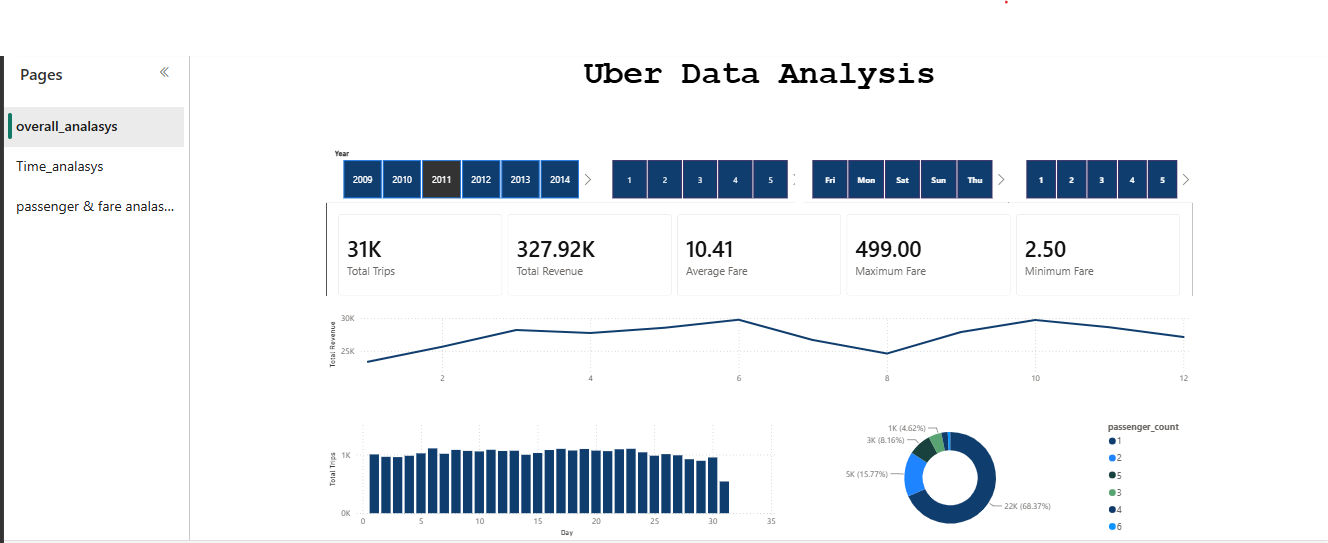

This screenshot's page, from the dashboard's own definition file:
{"tool":"powerbi","page":{"name":"overall_analasys","canvas":[1280,720],"ordinal":0},"visuals":[{"type":"cardVisual","fields":{"Data":["uber.Total Trips","uber.Total Revenue","uber.Average Fare","uber.Maximum Fare","uber.Minimum Fare"]},"box":[0,221.8,1280.2,157],"z":0},{"type":"slicer","fields":{"Values":["uber.Year"]},"box":[0,138.2,397.4,83.5],"z":1000},{"type":"slicer","fields":{"Values":["uber.Month"]},"box":[397.4,138.2,308.2,83.5],"z":2000},{"type":"slicer","fields":{"Values":["uber.Weekday"]},"box":[692.6,138.2,315.4,83.5],"z":3000},{"type":"slicer","fields":{"Values":["uber.passenger_count"]},"box":[1008,138.2,272.2,83.5],"z":4000},{"type":"lineChart","title":"Revenue by Month","fields":{"Category":["uber.Month"],"Y":["uber.Total Revenue"]},"box":[0,360,1280.2,139.7],"z":5000},{"type":"clusteredColumnChart","fields":{"Category":["uber.Day"],"Y":["uber.Total Trips"]},"box":[0,518.4,669.6,201.6],"z":6000},{"type":"donutChart","fields":{"Category":["uber.passenger_count"],"Y":["uber.Total Trips"]},"box":[682.6,518.4,597.6,201.6],"z":7000},{"type":"textbox","box":[0,0,1280.2,90.7],"z":8000}]}

Visuals, with their boxes on the page's 1280x720 design canvas (x1, y1, x2, y2). These are canvas units, not pixel positions in the 1328x543 screenshot, which may show the page scaled, cropped or inside an application window:
cardVisual - uber.Total Trips x uber.Total Revenue: l=0, t=222, r=1280, b=379
slicer - uber.Year: l=0, t=138, r=397, b=222
slicer - uber.Month: l=397, t=138, r=706, b=222
slicer - uber.Weekday: l=693, t=138, r=1008, b=222
slicer - uber.passenger_count: l=1008, t=138, r=1280, b=222
"Revenue by Month" lineChart: l=0, t=360, r=1280, b=500
clusteredColumnChart - uber.Day x uber.Total Trips: l=0, t=518, r=670, b=720
donutChart - uber.passenger_count x uber.Total Trips: l=683, t=518, r=1280, b=720
textbox: l=0, t=0, r=1280, b=91
